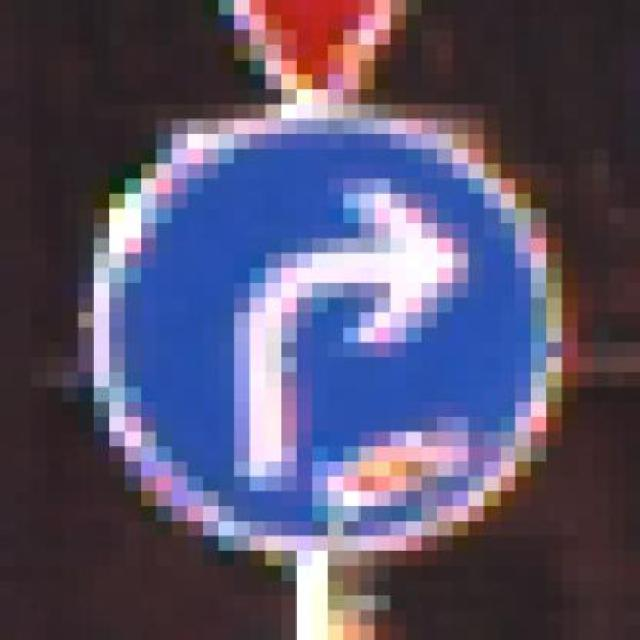Turn right ahead: (47, 89, 593, 566)
